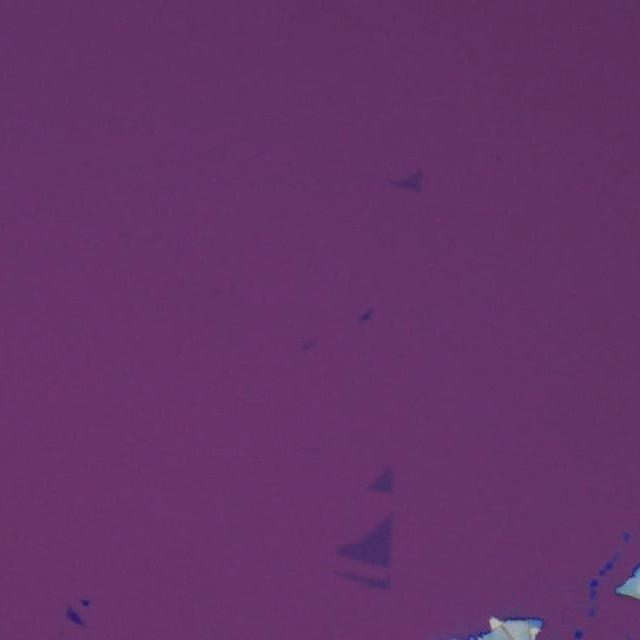monolayer-eWW4: (332, 517, 391, 568), (366, 460, 396, 496), (338, 574, 390, 592)
